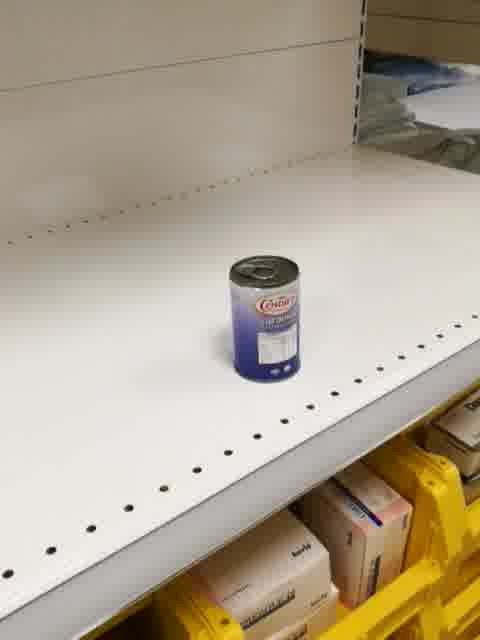sardine: (229, 254, 302, 385)
